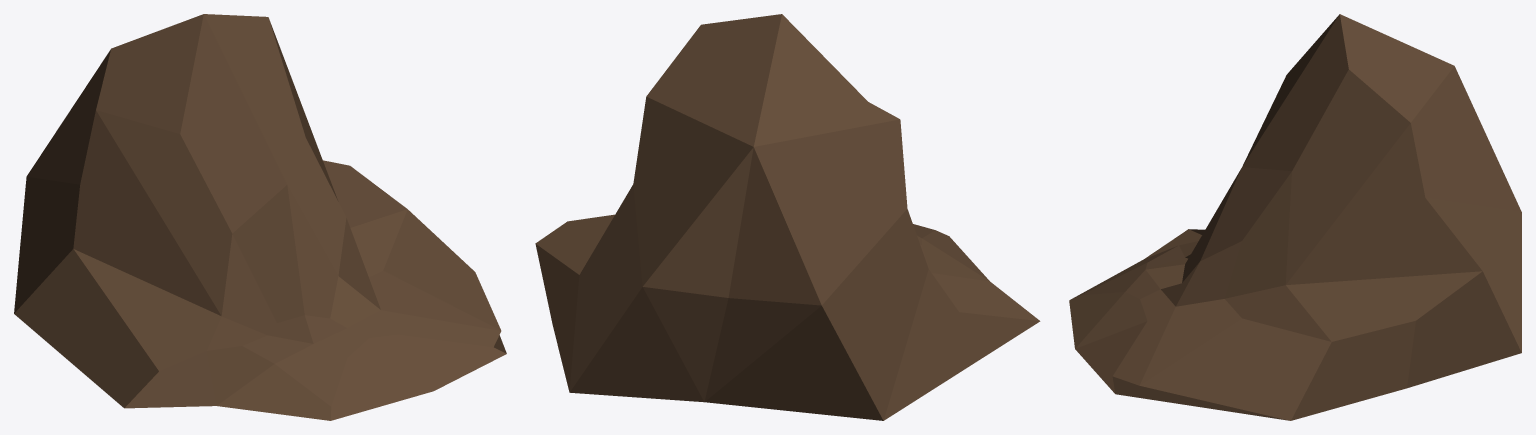
Rendered from Rock_13_Dark_Brown.fbx.
3 views of the same model, side by side, from view 1: azimuth 30°, elevation 25°; view 2: azimuth 150°, elevation 25°; view 3: azimuth 270°, elevation 25° (orthographic). The views are drawn at different scales.
Visible parts, largest first — view 1: Rock_13_Dark_Brown; view 2: Rock_13_Dark_Brown; view 3: Rock_13_Dark_Brown.
Part boxes in pixels (bbox=[...]): Rock_13_Dark_Brown: bbox=[14, 14, 506, 420]; Rock_13_Dark_Brown: bbox=[535, 14, 1040, 420]; Rock_13_Dark_Brown: bbox=[1069, 14, 1521, 420].
Size of the model in its own units: 335 by 239 by 335.
